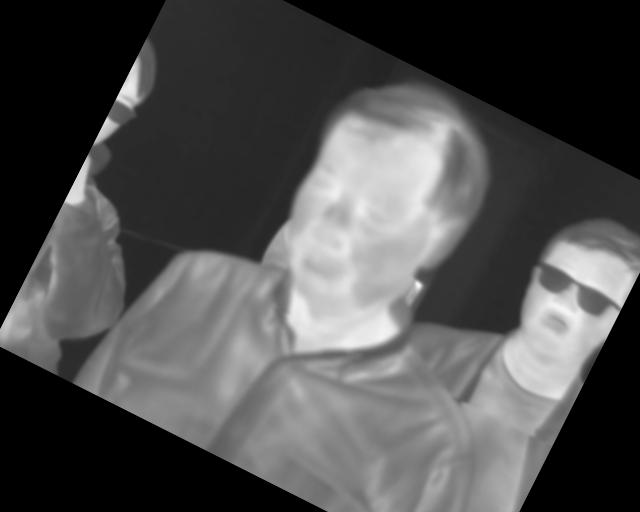face: (245, 50, 519, 358), (494, 192, 640, 380)
